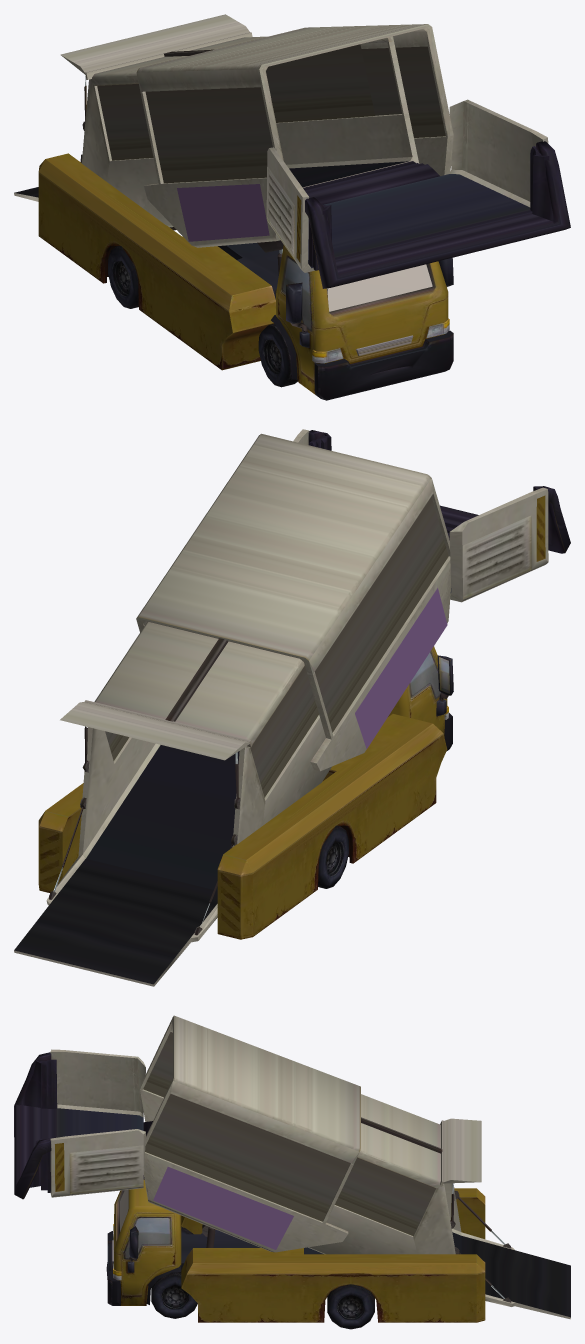
The model's file is stair-truck.lod0.glb.
The picture shows the model from 3 angles, top to bottom: view 1: azimuth 30°, elevation 25°; view 2: azimuth 150°, elevation 25°; view 3: azimuth 270°, elevation 25°; orthographic projection. The views are drawn at different scales.
Parts seen in each view (by area): view 1: Object_15, Object_16; view 2: Object_15, Object_16; view 3: Object_15, Object_16.
Part boxes in pixels (left/top/right/bottom): Object_15: left=14, top=14, right=570, bottom=400; Object_16: left=177, top=184, right=432, bottom=311; Object_15: left=14, top=429, right=570, bottom=986; Object_16: left=355, top=588, right=447, bottom=749; Object_15: left=14, top=1015, right=570, bottom=1329; Object_16: left=120, top=1167, right=293, bottom=1249.
Bounding box in the file's own units: 3.5 × 4.4 × 8.99.
2 materials, 1 textured.
